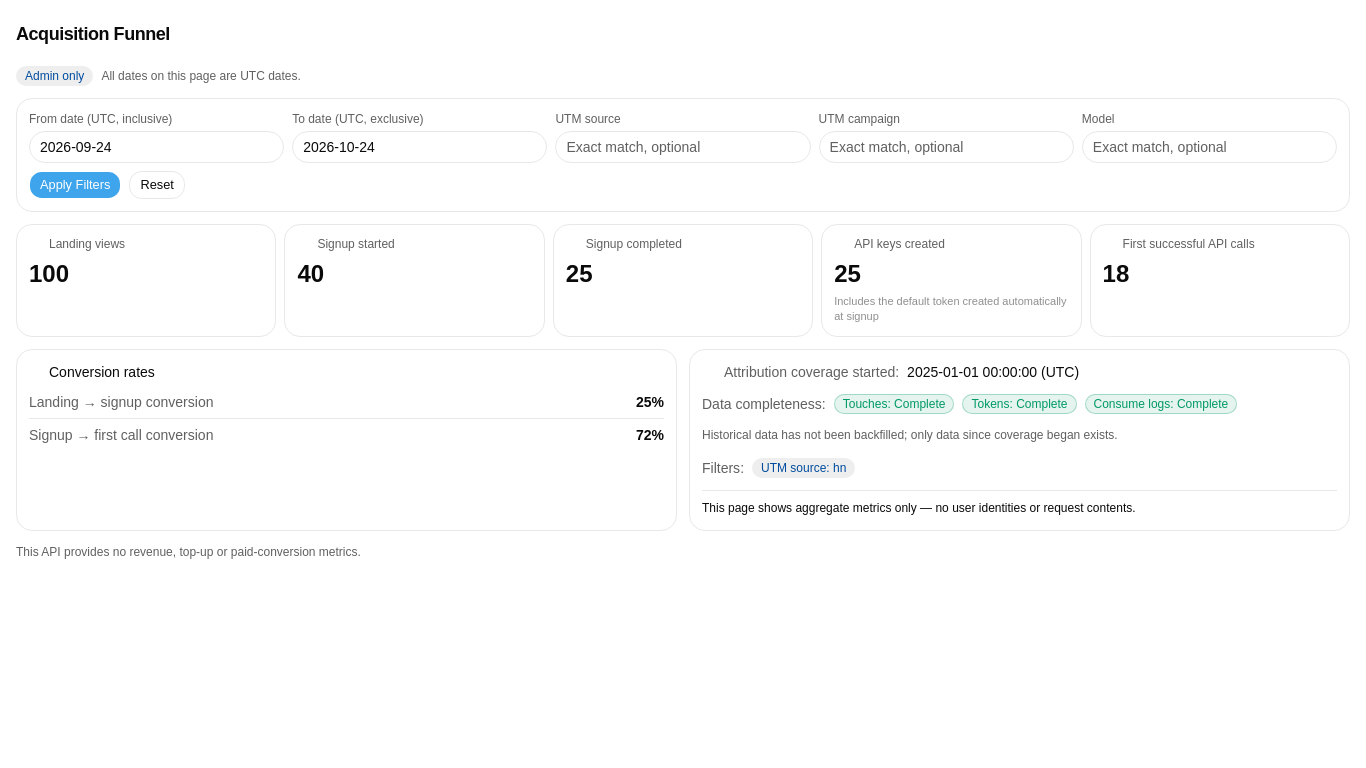
it: acquisition funnel page behavior › Reset restores the default window and clears the text filters
Expected: the text "Landing views" is shown, x1=49 y1=237 x2=125 y2=252
Replace the text in the field labelled "From date (UTC, inclusive)" with "2026-02-01" at {"x": 157, "y": 147}, box x1=29 y1=131 x2=284 y2=163
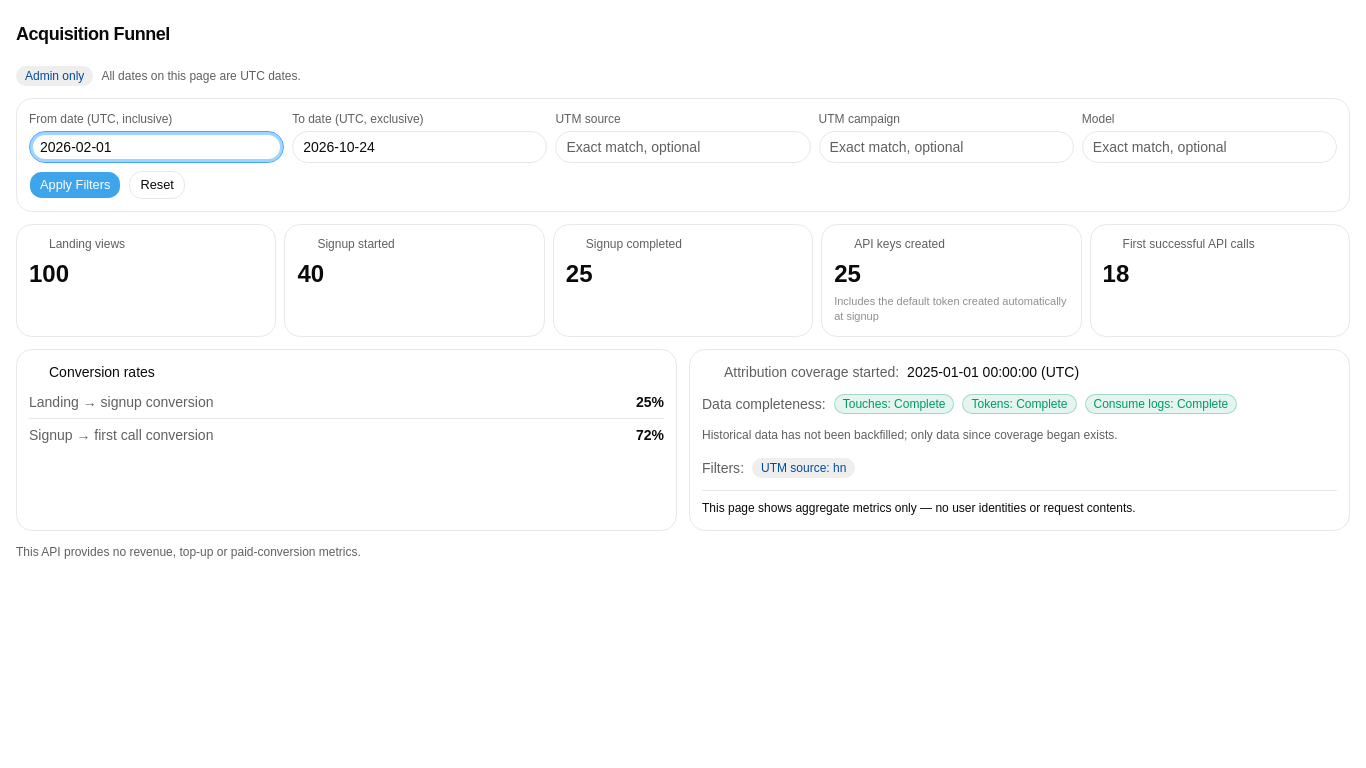
Type "news" into the field labelled "UTM source" at {"x": 683, "y": 147}, box x1=555 y1=131 x2=811 y2=163
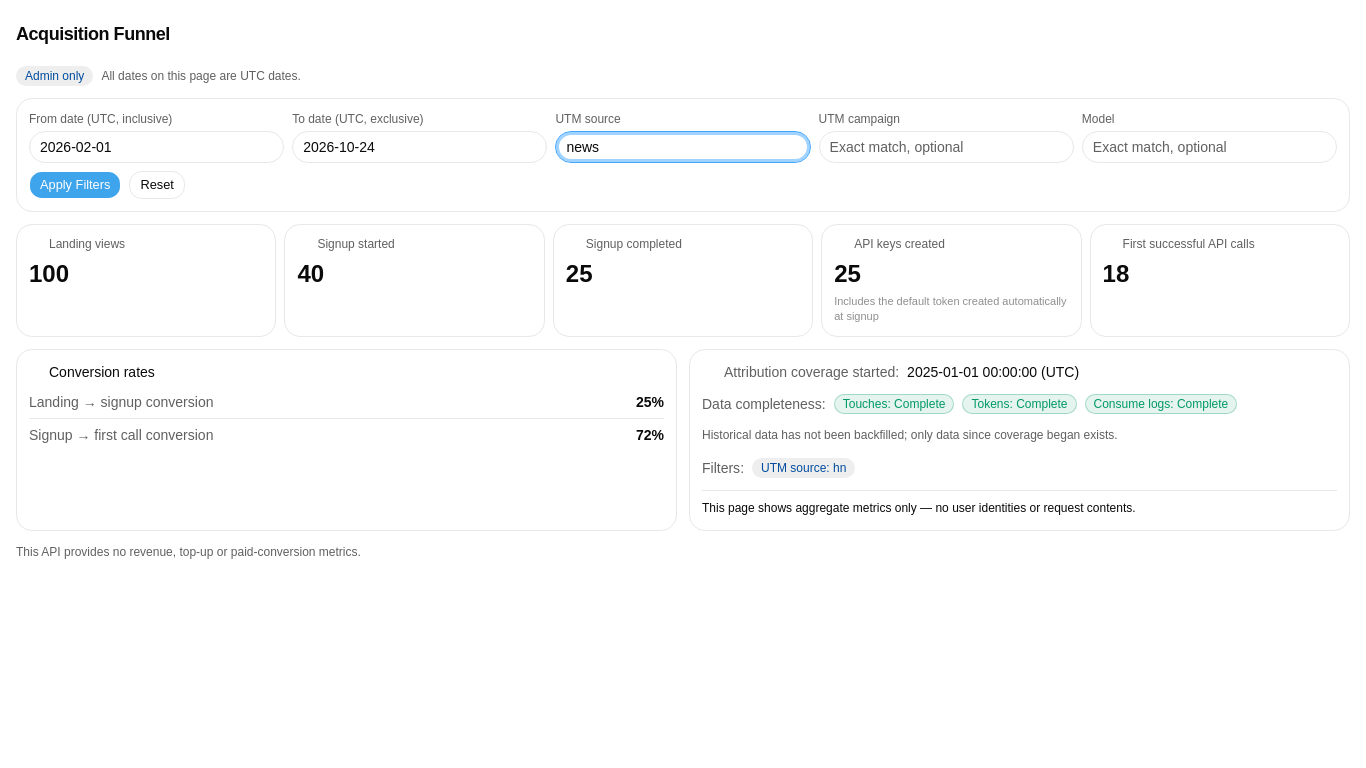
Click the button "Reset" at {"x": 157, "y": 185}, box x1=129 y1=171 x2=185 y2=199
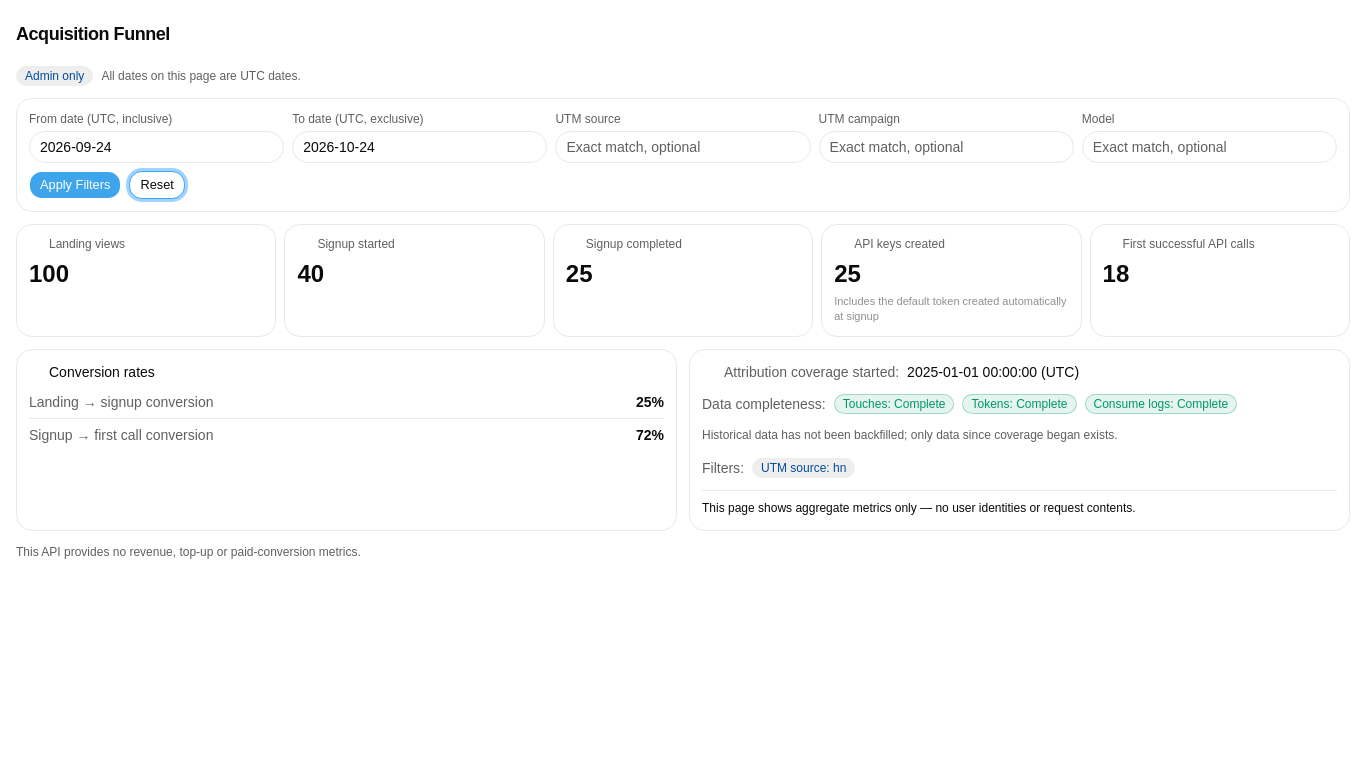
Now the field labelled "From date (UTC, inclusive)" does not hold "2026-02-01", box x1=29 y1=131 x2=284 y2=163
Now the field labelled "UTM source" is empty, box x1=555 y1=131 x2=811 y2=163
